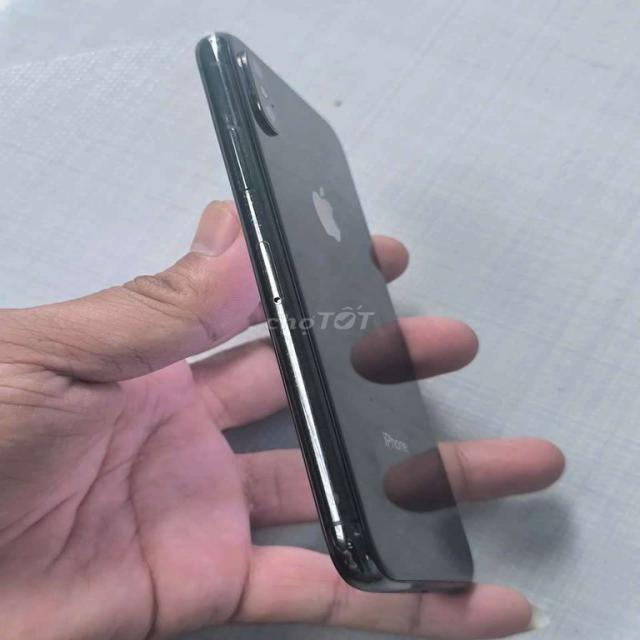scratch: (226, 186, 284, 236), (210, 105, 260, 133), (344, 531, 382, 566), (195, 26, 244, 47), (275, 344, 306, 365), (362, 388, 382, 414)
